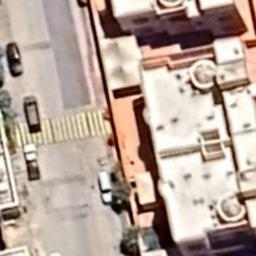SUV: (96, 170, 114, 204), (6, 42, 23, 77)
pickup: (22, 143, 42, 181)
van: (22, 95, 43, 133)
